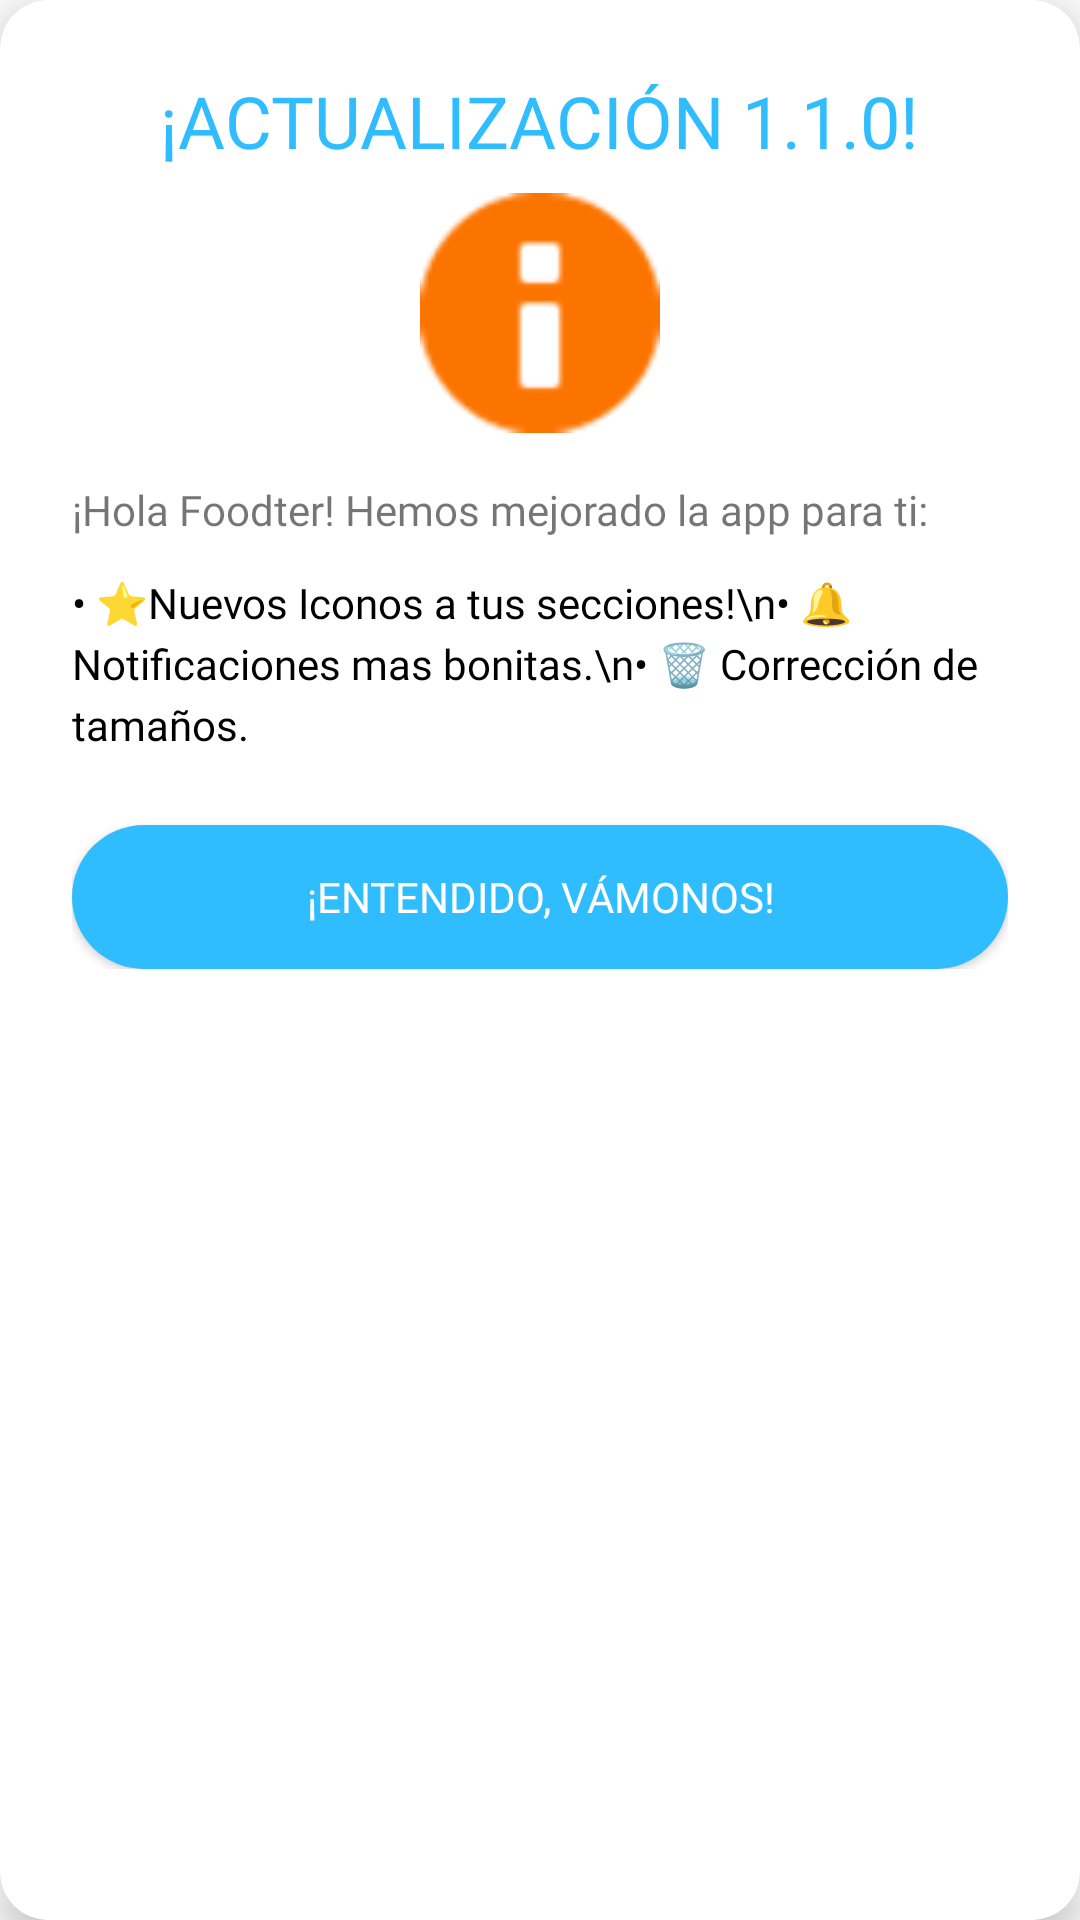

Where icons sit on this 1080 × 1920 app screen, as (x1, y1, x2, y2):
info: (420, 193, 660, 433)
